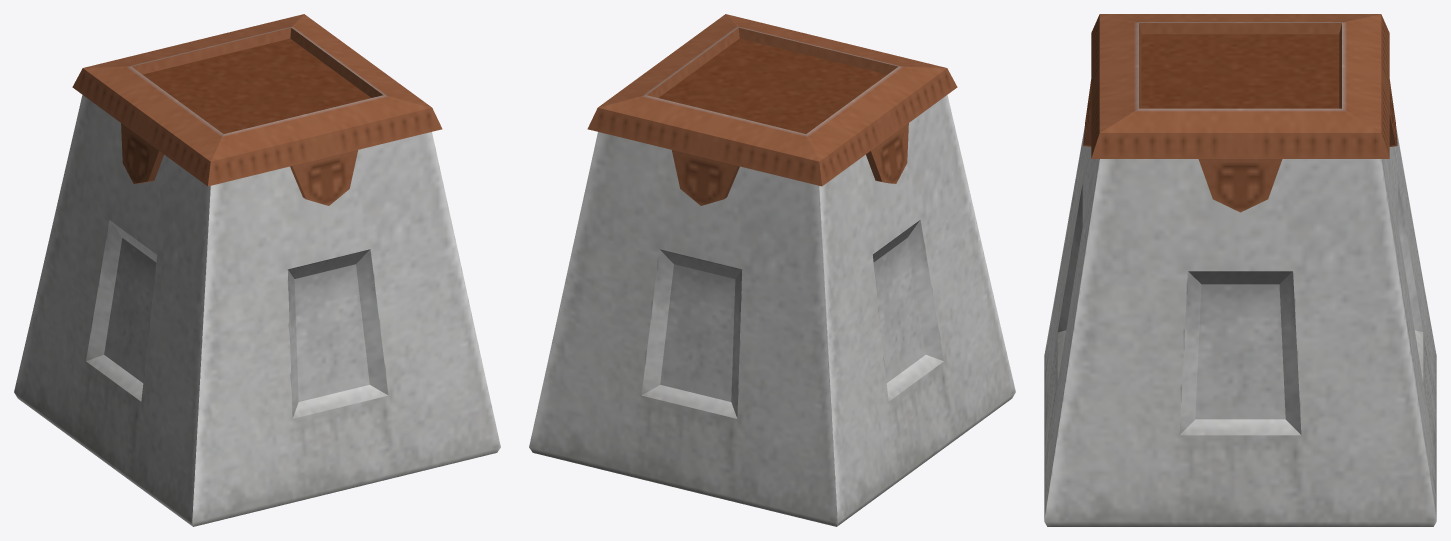
File: tower.fbx
The picture shows the model from 3 angles, left to right: view 1: azimuth 30°, elevation 25°; view 2: azimuth 150°, elevation 25°; view 3: azimuth 270°, elevation 25°; orthographic projection. The views are drawn at different scales.
Visible parts, largest first — view 1: pTower, pCube11; view 2: pTower, pCube11; view 3: pTower, pCube11.
Boxes of the visible parts, x1,y1,x2,y2 form: pTower: (14,38,500,526); pCube11: (72,14,442,205); pTower: (529,38,1015,526); pCube11: (587,14,957,205); pTower: (1044,34,1436,526); pCube11: (1083,14,1397,212).
Size of the model in its own units: 4.97 by 5.31 by 4.97.
1 material, 1 textured.
